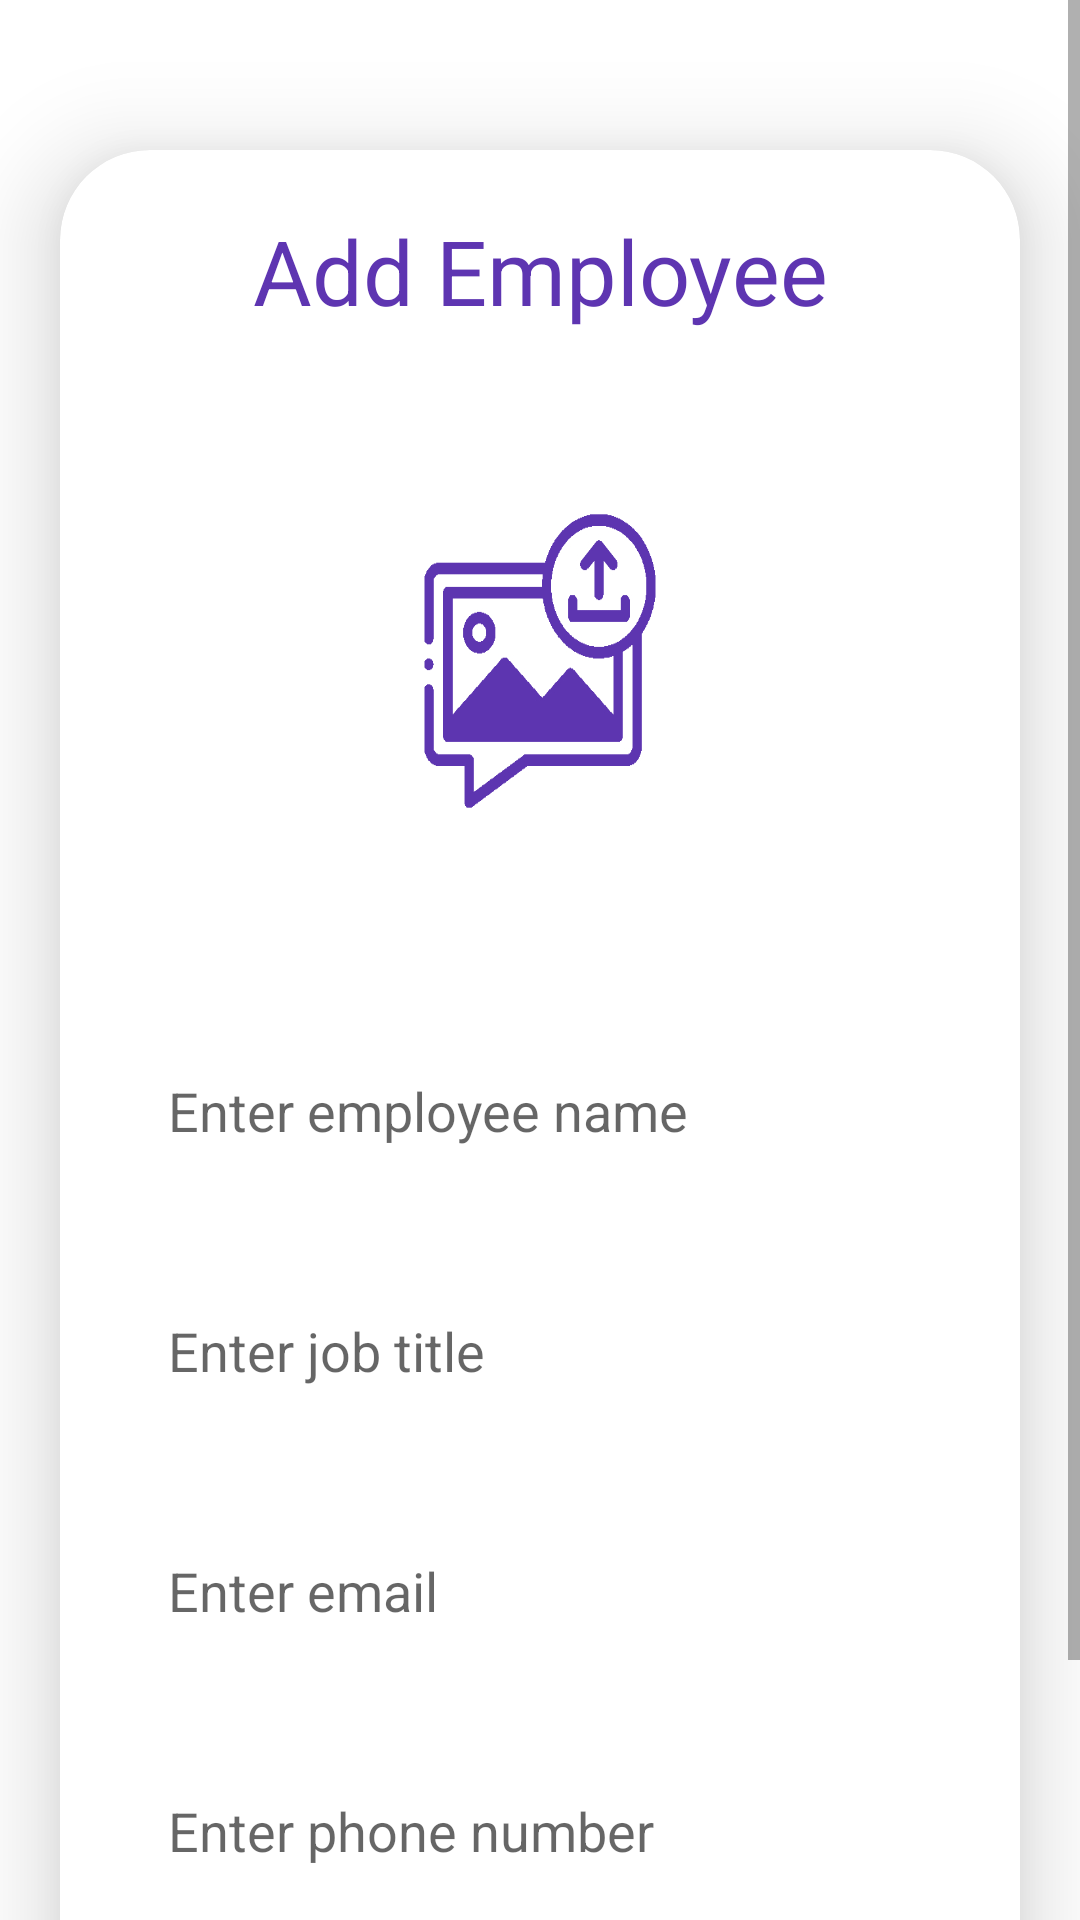

Icons on this 1080*1920 Android screen, each with its box as [x1=x1, y1=y1, x2=x2, y2=y2]:
uploadimg: [x1=424, y1=514, x2=656, y2=808]
